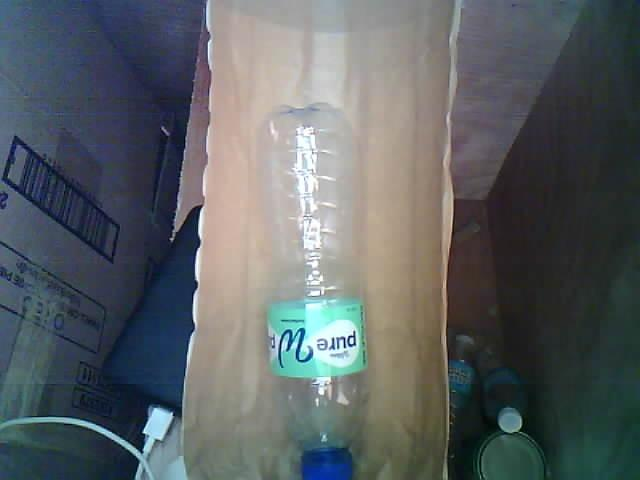small_bottle: (240, 96, 389, 480)
